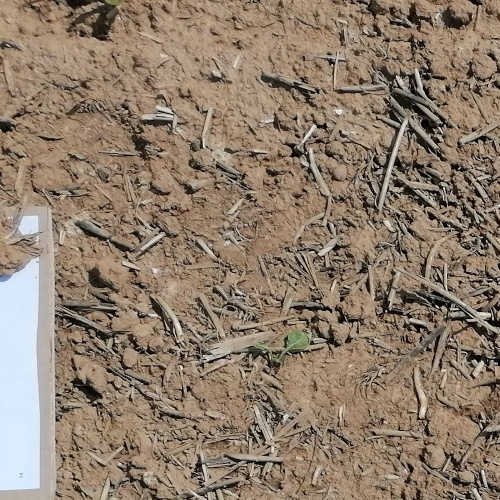beet: (255, 329, 309, 370)
